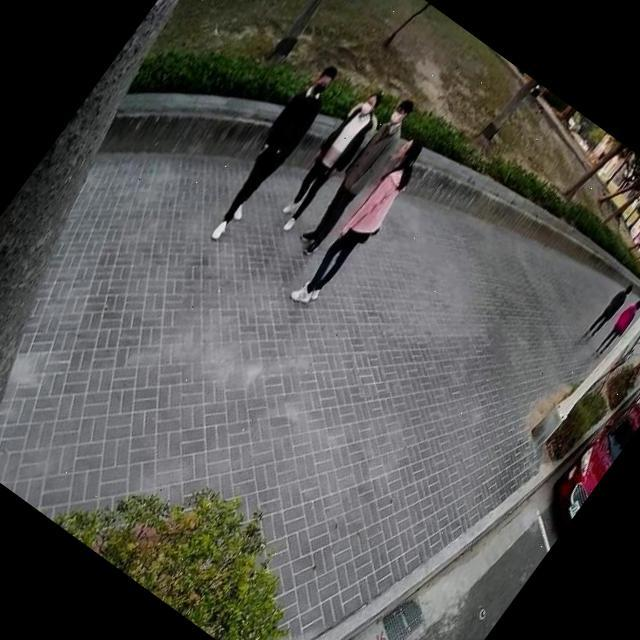person: (194, 52, 352, 249), (284, 125, 440, 318), (288, 89, 427, 264), (264, 78, 396, 238), (578, 271, 640, 347), (586, 288, 640, 366)
